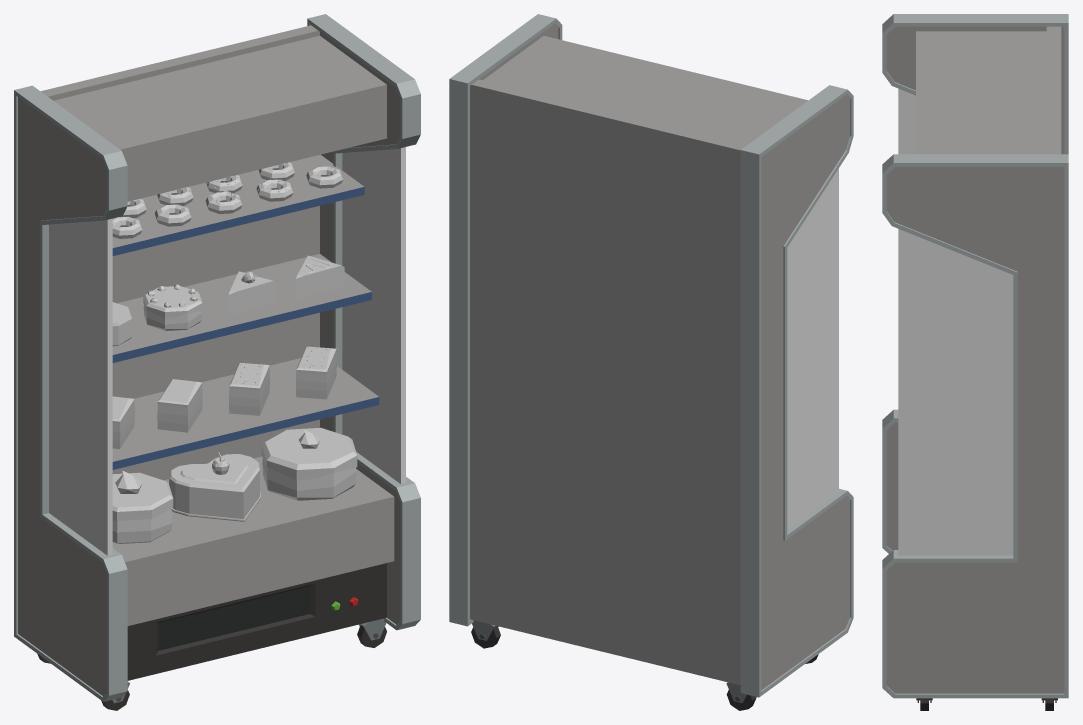
File: SM_Props_Interior_SuperMarket_Display_Small_Preset_Bakery.fbx
The picture shows the model from 3 angles, left to right: view 1: azimuth 30°, elevation 25°; view 2: azimuth 150°, elevation 25°; view 3: azimuth 270°, elevation 25°; orthographic projection. The views are drawn at different scales.
Visible parts, largest first — view 1: SM_Props_Interior_SuperMarket_Display_Small_Preset_Bakery, SM_Props_Interior_SuperMarket_Display_Small_Preset_Bakery_Fo; view 2: SM_Props_Interior_SuperMarket_Display_Small_Preset_Bakery; view 3: SM_Props_Interior_SuperMarket_Display_Small_Preset_Bakery.
Part boxes in pixels (box(x1,y1,x2,y2)): SM_Props_Interior_SuperMarket_Display_Small_Preset_Bakery: box(14, 14, 420, 710); SM_Props_Interior_SuperMarket_Display_Small_Preset_Bakery_Fo: box(112, 162, 357, 543); SM_Props_Interior_SuperMarket_Display_Small_Preset_Bakery: box(449, 14, 853, 710); SM_Props_Interior_SuperMarket_Display_Small_Preset_Bakery: box(882, 14, 1068, 710).
Size of the model in its own units: 121 by 213 by 64.
